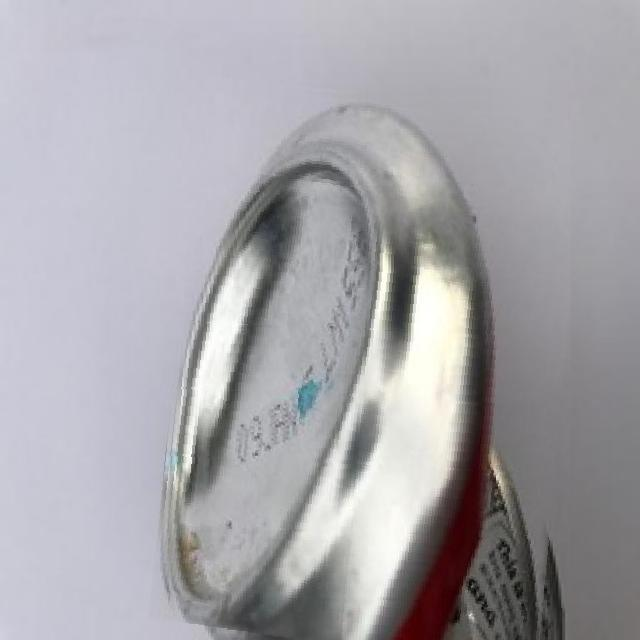recyclable: (162, 84, 571, 640)
